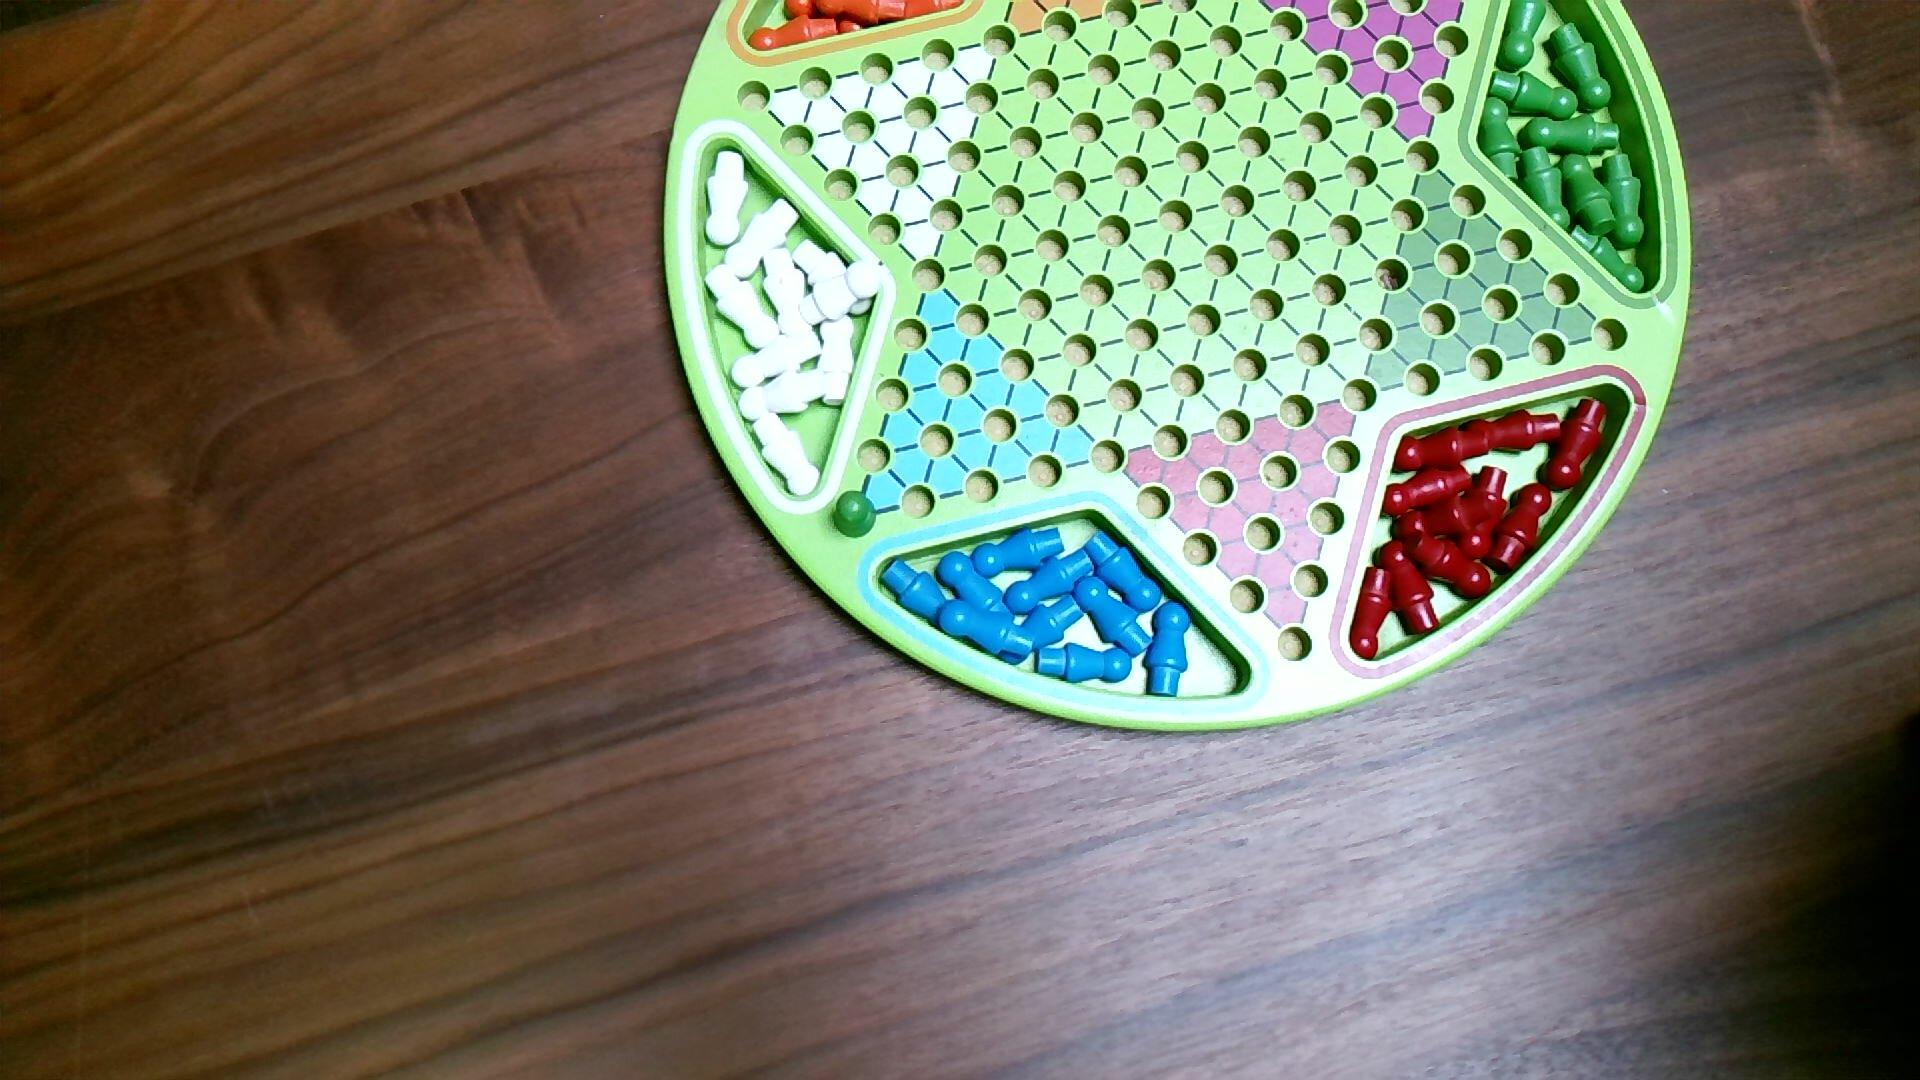G: (832, 489, 880, 541)
